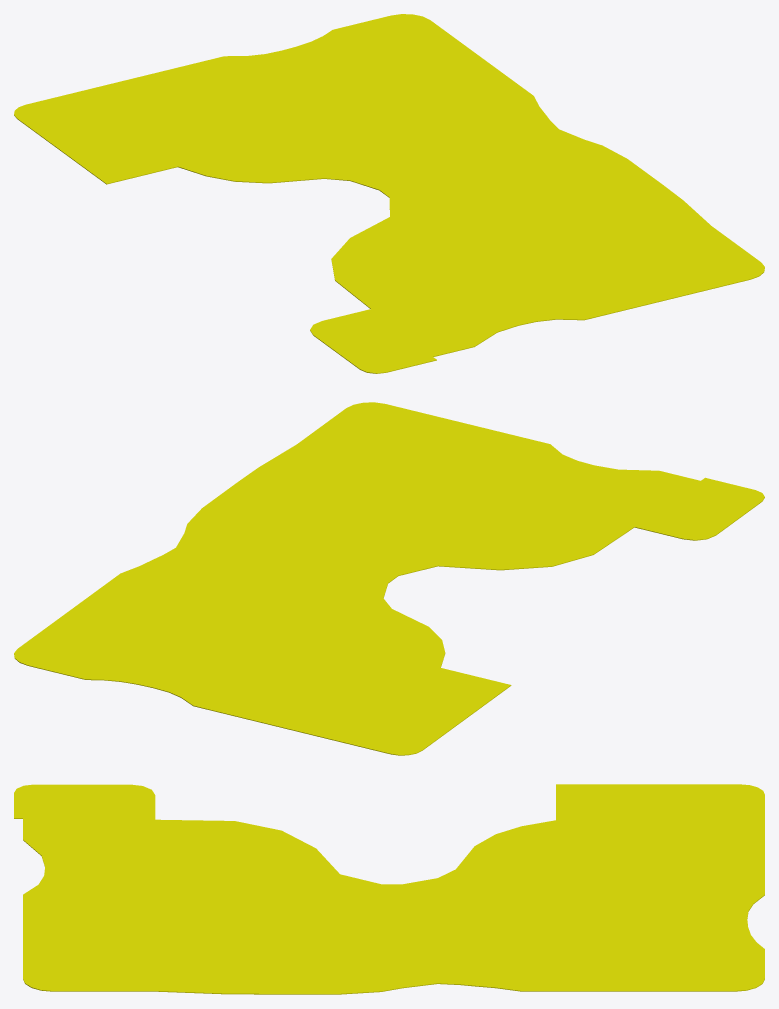
The model's file is sm_hana_building_11f_ceiling.glb.
3 renders of one model, top to bottom at view 1: azimuth 30°, elevation 25°; view 2: azimuth 150°, elevation 25°; view 3: azimuth 270°, elevation 25°, orthographic. The views are drawn at different scales.
Parts seen in each view (by area): view 1: sm_hana_building_11f_ceiling; view 2: sm_hana_building_11f_ceiling; view 3: sm_hana_building_11f_ceiling.
Part boxes in pixels (<box>): sm_hana_building_11f_ceiling: <box>14,14,764,373</box>; sm_hana_building_11f_ceiling: <box>14,402,764,755</box>; sm_hana_building_11f_ceiling: <box>14,784,764,994</box>.
Size of the model in its own units: 65.19 by 0.1025 by 98.77.
Materials: 1 (1 with a texture image).
